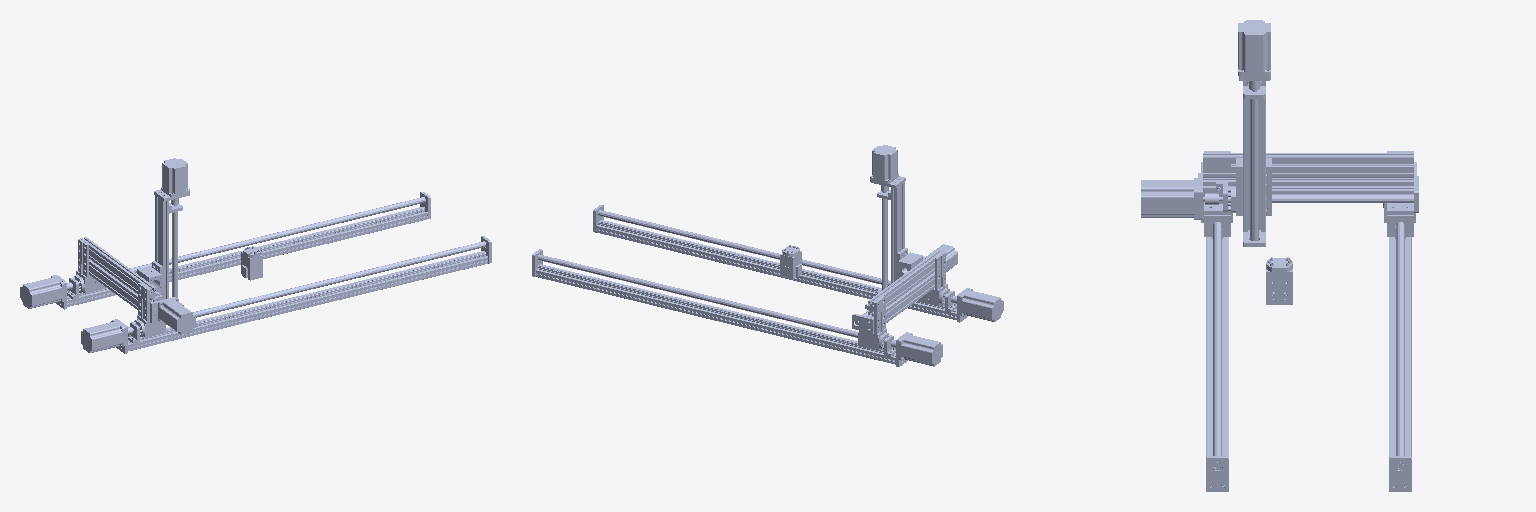
URDF robot description (cncweld):
<?xml version="1.0" encoding="utf-8"?>
<!--
This is the URDF model for the Self Built CNC Welding Mechanism for CNERC, HK PolyU.
15 July 2021, by [author].
Updated on 18 July 2021 to have all X, Y, and Z axes.
The Turn table is still needed to be put on and replace the tool0.
Updated on 19 July 2021, tool0 has been replaced with the Turn Table, Welding Torch, and Laser Scanner.
-->
<robot name="cncweld" xmlns:xacro="http://ros.org/wiki/xacro">

  <link name="world" />

<!--
  There are 2 rails for the X link. 
-->
  <link
    name="X_link">
    <visual>
      <origin
        xyz="0 0 0"
        rpy="0 0 0" />
      <geometry>
        <mesh
          filename="package://cnc_description/meshes/X_axis.STL" />
      </geometry>
      <material
        name="">
        <color
          rgba="0.792156862745098 0.819607843137255 0.933333333333333 1" />
      </material>
    </visual>
    <collision>
      <origin
        xyz="0 0 0"
        rpy="0 0 0" />
      <geometry>
        <mesh
          filename="package://cnc_description/meshes/X_axis.STL" />
      </geometry>
    </collision>
  </link>
<!--
  The World to X link Fixed Joint
-->
  <joint name="world_to_X_link" type="fixed">
    <parent link="world" />
    <child link="X_link" />
    <origin xyz="0.0 -0.1445 0.0" rpy="0.0 0.0 0.0" />
  </joint>

<!--
  The Y link
-->
  <link
    name="Y_link">
    <visual>
      <origin
        xyz="0.0 0.0 0.0"
        rpy="0 0 0" />
      <geometry>
        <mesh
          filename="package://cnc_description/meshes/Y_axis_assy.STL" />
      </geometry>
      <material
        name="">
        <color
          rgba="0.792156862745098 0.819607843137255 0.933333333333333 1" />
      </material>
    </visual>
    <collision>
      <origin
        xyz="0.0 0.0 0.0"
        rpy="0 0 0" />
      <geometry>
        <mesh
          filename="package://cnc_description/meshes/Y_axis_assy.STL" />
      </geometry>
    </collision>
  </link>

<!--
  The X link to Y link Prismatic Joint
-->
  <joint
    name="X_link_Y_link_joint"
    type="prismatic">
    <origin
      xyz="0.0 0.0 0.0" rpy="0.0 0.0 0.0" />
    <parent
      link="X_link" />
    <child
      link="Y_link" />
    <axis  xyz="1 0 0"/>
    <limit effort="1000.0" lower="0.0" upper="0.7" velocity="0.05"/>
  </joint>

<!--
  The Z link
-->
  <link
    name="Z_link">
    <visual>
      <origin
        xyz="0.0 0.0 0.0"
        rpy="0 0 0" />
      <geometry>
        <mesh
          filename="package://cnc_description/meshes/Z_axis_assy.STL" />
      </geometry>
      <material
        name="">
        <color
          rgba="0.792156862745098 0.819607843137255 0.933333333333333 1" />
      </material>
    </visual>
    <collision>
      <origin
        xyz="0.0 0.0 0.0"
        rpy="0 0 0" />
      <geometry>
        <mesh
          filename="package://cnc_description/meshes/Z_axis_assy.STL" />
      </geometry>
    </collision>
  </link>

<!--
  The Y link to Z link Prismatic Joint
-->
  <joint
    name="Y_link_Z_link_joint"
    type="prismatic">
    <origin
      xyz="0.0 0.0 0.0" rpy="0.0 0.0 0.0" />
    <parent
      link="Y_link" />
    <child
      link="Z_link" />
    <limit effort="1000.0" lower="0.0" upper="0.21" velocity="0.05"/>
    <axis  xyz="0 1 0"/>
  </joint>

<!--
  The Slide link on the Z link.
  Usually the last link is the tool0 and the End Effector will be
  fixed on it.
-->
  <link
    name="tool0">
    <visual>
      <origin
        xyz="0.0 0.0 0.0"
        rpy="0 0 0" />
      <geometry>
        <mesh
          filename="package://cnc_description/meshes/tool0.STL" />
      </geometry>
      <material
        name="">
        <color
          rgba="0.792156862745098 0.819607843137255 0.933333333333333 1" />
      </material>
    </visual>
    <collision>
      <origin
        xyz="0.0 0.0 0.0"
        rpy="0 0 0" />
      <geometry>
        <mesh
          filename="package://cnc_description/meshes/tool0.STL" />
      </geometry>
    </collision>
  </link>

<!--
  The Z link to tool0 Prismatic Joint
-->
  <joint
    name="Z_link_tool0_joint"
    type="prismatic">
<!--
    <origin xyz="0.045 0.0 0.0" rpy="0.0 0.0 0.0" />
-->
    <origin xyz="0.31 0.046 0.0" rpy="0.0 0.0 0.0" />
    <parent
      link="Z_link" />
    <child
      link="tool0" />
    <limit effort="1000.0" lower="0.0" upper="0.086" velocity="0.05"/>
    <axis  xyz="0 0 1"/>
  </joint>

</robot>

--- Facts derived from the render (not from the file) ---
Views: 3 orthographic renders of the robot side by side, from view 1: azimuth 30°, elevation 25°; view 2: azimuth 150°, elevation 25°; view 3: azimuth 270°, elevation 25°.
Model cncweld with 5 links and 4 joints (3 prismatic, 1 fixed), rooted at world, posed all joints at 0.
Links seen in each view (by area): view 1: X_link, Y_link, Z_link, tool0; view 2: X_link, Y_link, Z_link, tool0; view 3: Y_link, X_link, Z_link, tool0.
Boxes of the visible links, x1=… form: X_link: x1=20, y1=192, x2=491, y2=353; Y_link: x1=74, y1=237, x2=195, y2=337; Z_link: x1=137, y1=158, x2=189, y2=305; tool0: x1=241, y1=246, x2=262, y2=280; X_link: x1=532, y1=205, x2=1003, y2=366; Y_link: x1=852, y1=244, x2=957, y2=350; Z_link: x1=870, y1=145, x2=922, y2=293; tool0: x1=780, y1=245, x2=801, y2=279; Y_link: x1=1141, y1=151, x2=1418, y2=238; X_link: x1=1201, y1=162, x2=1416, y2=491; Z_link: x1=1228, y1=20, x2=1271, y2=246; tool0: x1=1266, y1=257, x2=1292, y2=304.
Bounding box of the posed robot: 1.25 × 0.495 × 0.4782 m (x, y, z).
4 mesh visuals loaded from 4 distinct referenced files (4 binary STL).